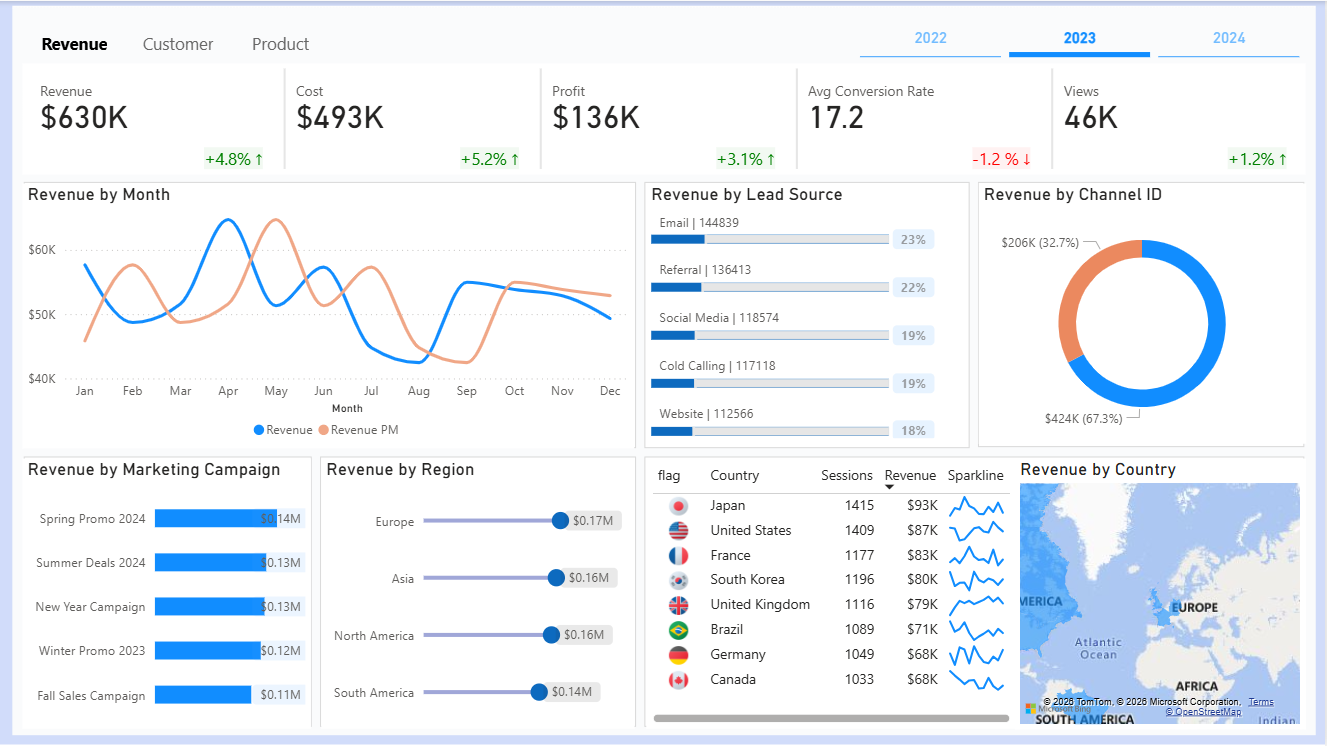

What the dashboard file says about the page in this screenshot:
{"tool":"powerbi","page":{"name":"Revenue","canvas":[1280,720],"ordinal":0},"visuals":[{"type":"cardVisual","fields":{"Data":["All Measure.Revenue","All Measure.Cost","All Measure.Profit","All Measure.Avg Conversion Rate","All Measure.Views"]},"box":[21.2,60,1238.8,107.5],"z":0},{"type":"lineChart","title":"Revenue by Month","fields":{"Y":["All Measure.Revenue","All Measure.Revenue PM"],"Category":["Calendar.Month"]},"box":[21.5,176.2,590.8,256.2],"z":1000},{"type":"clusteredBarChart","title":"Revenue by Lead Source","fields":{"Y":["All Measure.Base Zero","All Measure.Rev % of Lead","All Measure.Whole"],"Category":["leadSourceData.Lead Source"]},"box":[624,176,309,251],"z":2000},{"type":"donutChart","fields":{"Y":["All Measure.Revenue"],"Category":["channelData.Channel ID"]},"box":[944.3,175.7,315.7,251.4],"z":3000},{"type":"clusteredBarChart","fields":{"Y":["All Measure.Revenue"],"Category":["marketingCampaignData.Marketing Campaign"]},"box":[21.8,441.8,278.2,260.6],"z":4000},{"type":"clusteredBarChart","title":"Revenue by Region","fields":{"Y":["All Measure.Blank1","All Measure.Revenue","All Measure.Blank2"],"Category":["countryData.Region"]},"box":[310,441.4,302.1,260.7],"z":5000},{"type":"tableEx","fields":{"Values":["countryData.flag","countryData.Country","All Measure.Sessions","All Measure.Revenue","SparklineData(All Measure.Revenue_[Calendar.Monthnum])"]},"box":[623.7,441.6,355.9,260.6],"z":6000},{"type":"filledMap","fields":{"Category":["countryData.Country"]},"box":[980,442,280,261],"z":7000},{"type":"actionButton","title":"Revenue","box":[21.7,20,100,40],"z":8000},{"type":"actionButton","title":"Revenue","box":[121.2,20,100,40],"z":9000},{"type":"actionButton","title":"Revenue","box":[221.2,20,100,40],"z":10000},{"type":"advancedSlicerVisual","fields":{"Values":["Calendar.Year"]},"box":[825,8.3,435,51.7],"z":11000}]}

Visuals, with their boxes in screenshot pixels (x1, y1, x2, y2), scaled from the page's 1280x720 canvas onto the 1327x746 screenshot:
cardVisual - All Measure.Revenue x All Measure.Cost: Rect(22, 62, 1306, 174)
"Revenue by Month" lineChart: Rect(22, 183, 635, 448)
"Revenue by Lead Source" clusteredBarChart: Rect(647, 182, 967, 442)
donutChart - All Measure.Revenue x channelData.Channel ID: Rect(979, 182, 1306, 443)
clusteredBarChart - All Measure.Revenue x marketingCampaignData.Marketing Campaign: Rect(23, 458, 311, 728)
"Revenue by Region" clusteredBarChart: Rect(321, 457, 635, 727)
tableEx - countryData.flag x countryData.Country: Rect(647, 458, 1016, 728)
filledMap - countryData.Country: Rect(1016, 458, 1306, 728)
"Revenue" actionButton: Rect(22, 21, 126, 62)
"Revenue" actionButton: Rect(126, 21, 229, 62)
"Revenue" actionButton: Rect(229, 21, 333, 62)
advancedSlicerVisual - Calendar.Year: Rect(855, 9, 1306, 62)
